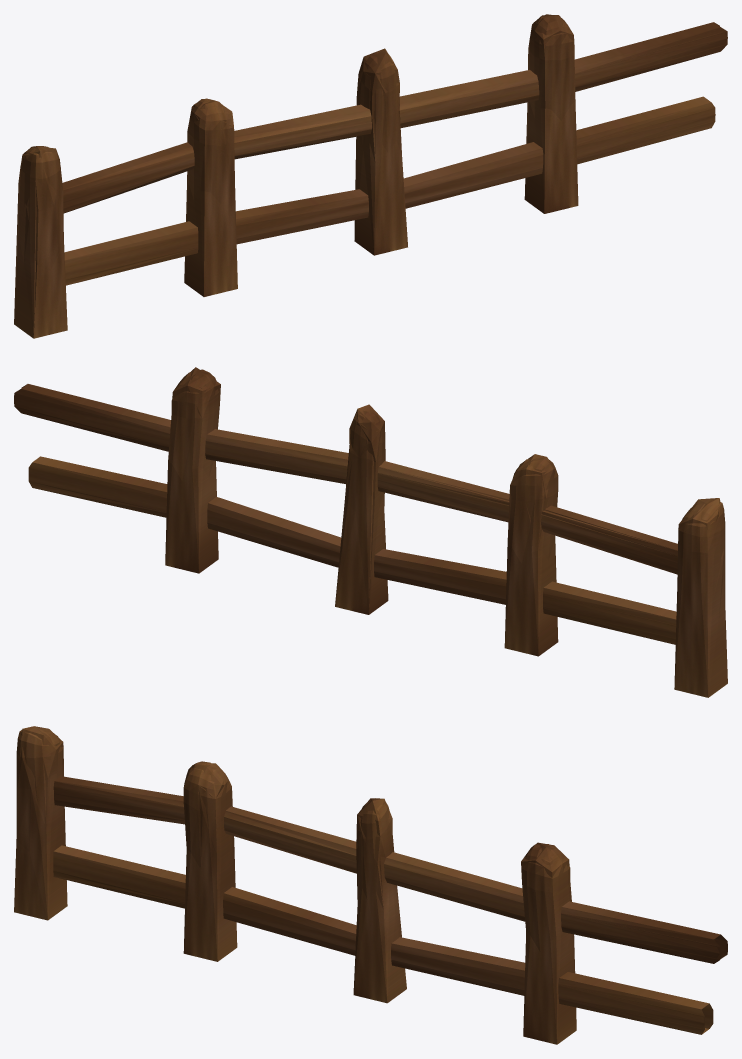
File: Fence_4TilesLength.fbx
3 renders of one model, top to bottom at view 1: azimuth 30°, elevation 25°; view 2: azimuth 150°, elevation 25°; view 3: azimuth 330°, elevation 25°, orthographic.
Visible parts, largest first — view 1: Fence#2, Fence#3; view 2: Fence#2, Fence#3; view 3: Fence#2, Fence#3.
Part boxes in pixels (x1,y1,x2,y2): Fence#2: (14,14,727,338); Fence#3: (18,15,727,337); Fence#2: (14,369,727,697); Fence#3: (18,367,723,640); Fence#2: (14,727,727,1044); Fence#3: (14,726,727,1033).
Size of the model in its own units: 8.25 by 2.2 by 0.4478.
1 material, 1 textured.
